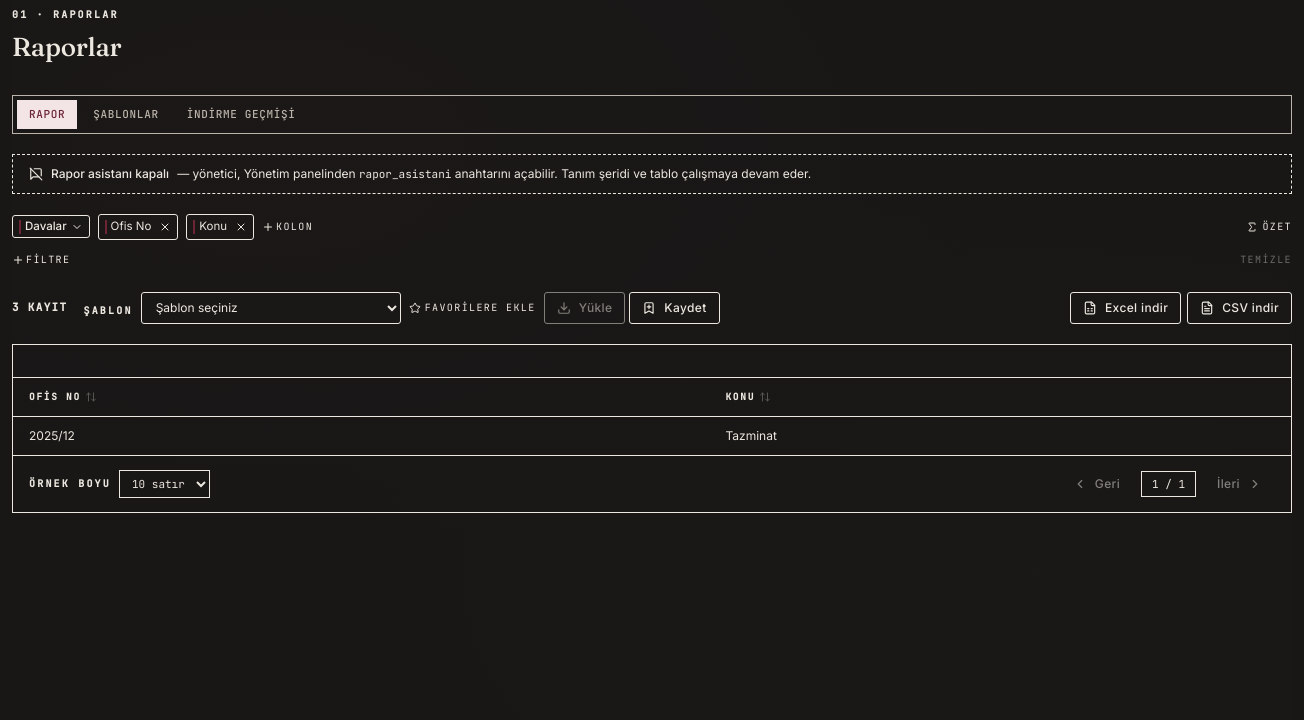
it: ReportsPage şablon / indirme / geçmiş (G134/G138) › geçmiş listesi hatası DataErrorBanner (boş liste DEĞİL) + Tekrar dene
The width and height of the screenshot is (1304, 720).
Press the mouse on the tab "İndirme geçmişi" at (241, 114), box [175,100,308,128]
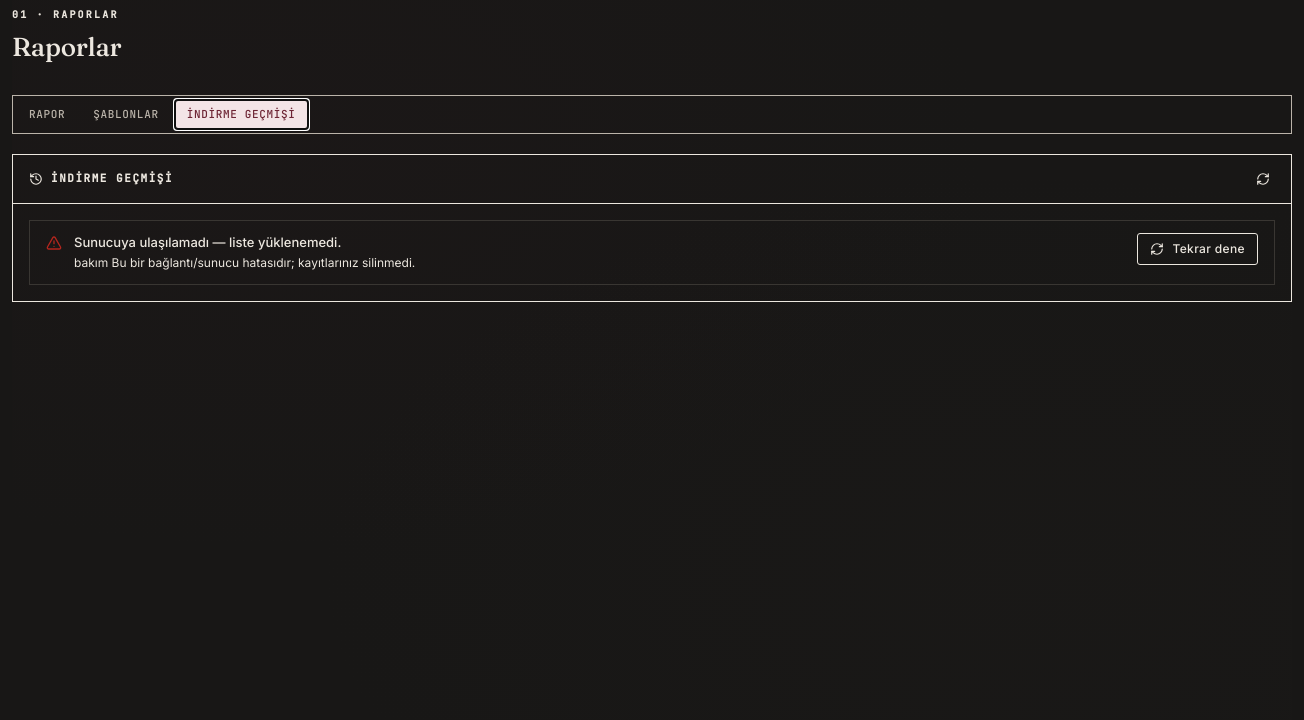
expect the message shows "bakım": met, box [74,255,112,270]
Click the button "Tekrar dene" at (1198, 248), box [1137,232,1258,264]
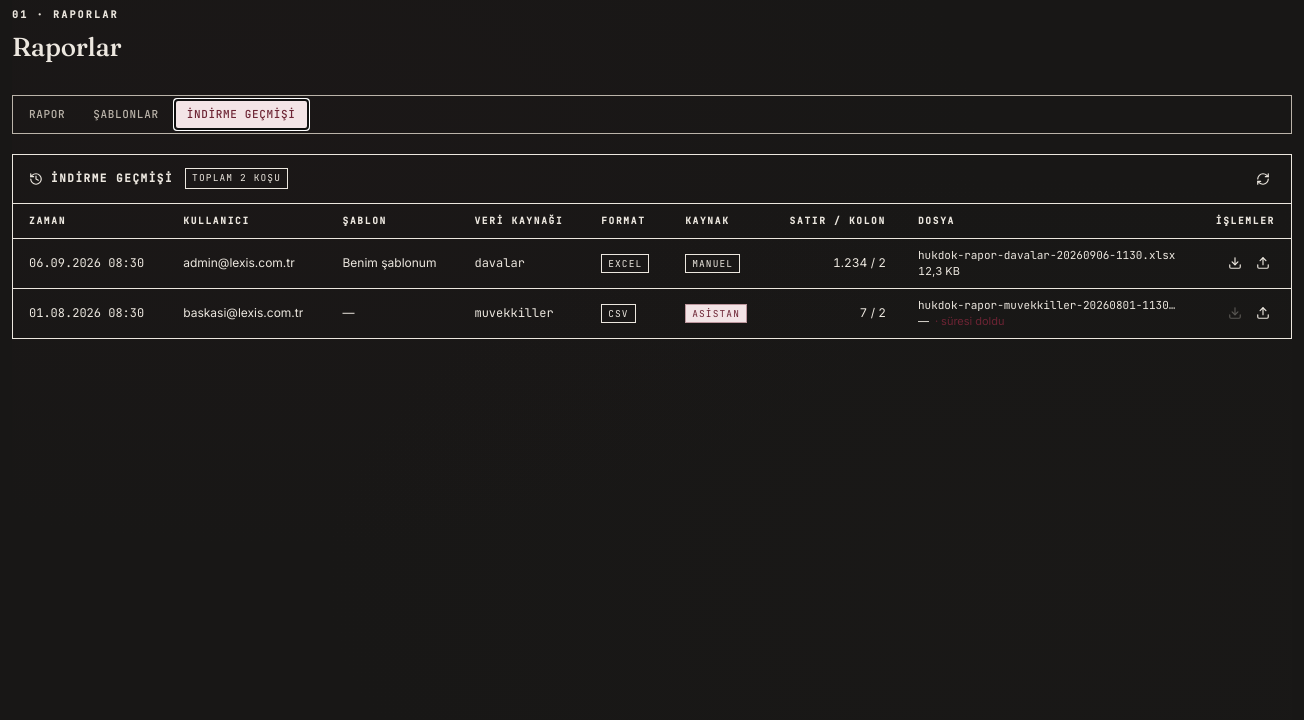
expect the number of rows with test id "kosu-satiri" is 2: met, box [13,238,1291,288]; [13,288,1291,338]
